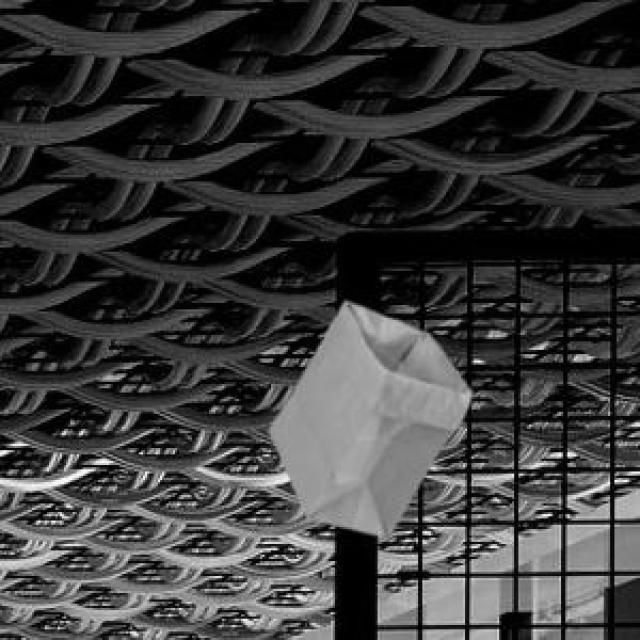paper: (265, 297, 467, 531)
